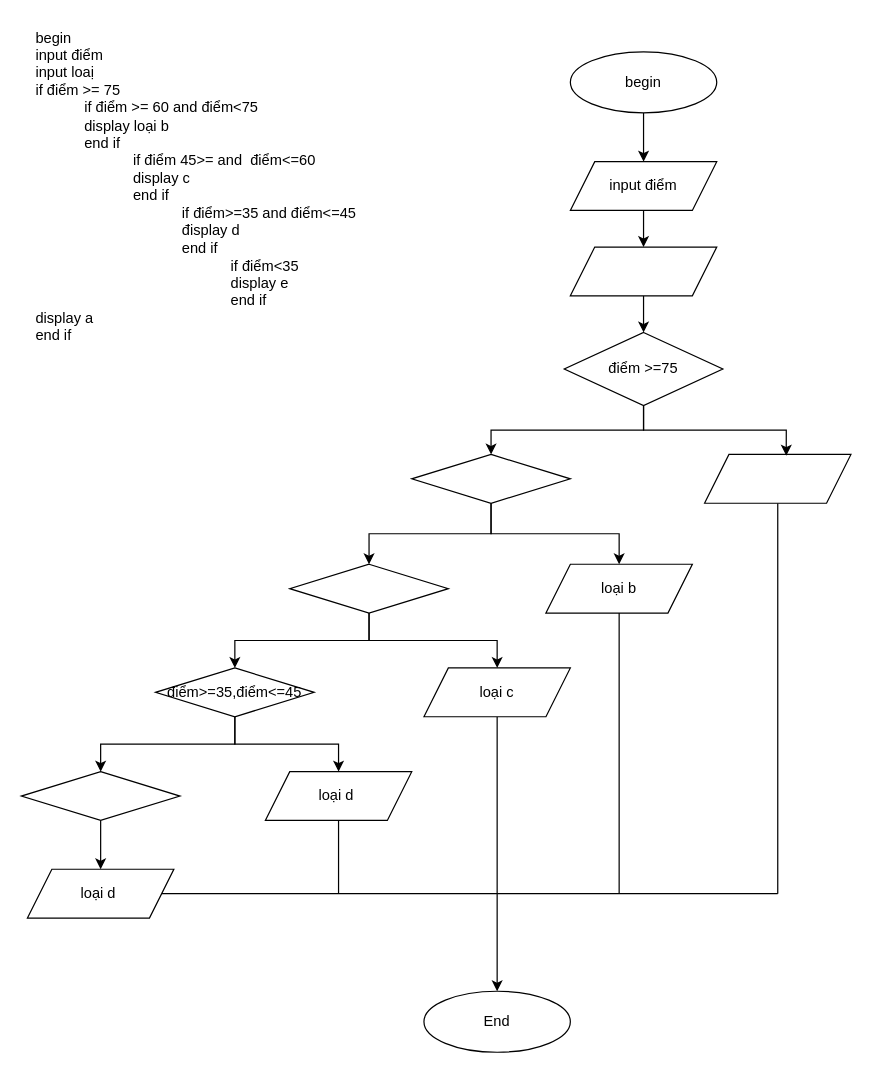
The diagram is 872 pixels wide and 1074 high, and some of its shapes have lost their labels. Here are the shapes that lost their labels. From the top down, the centre of each, then its label:
point 643,271: loại
point 490,478: điểm>=60,điểm<=75
point 777,478: loại a
point 368,588: điểm>=45,điểm<=60
point 100,795: điểm <35
